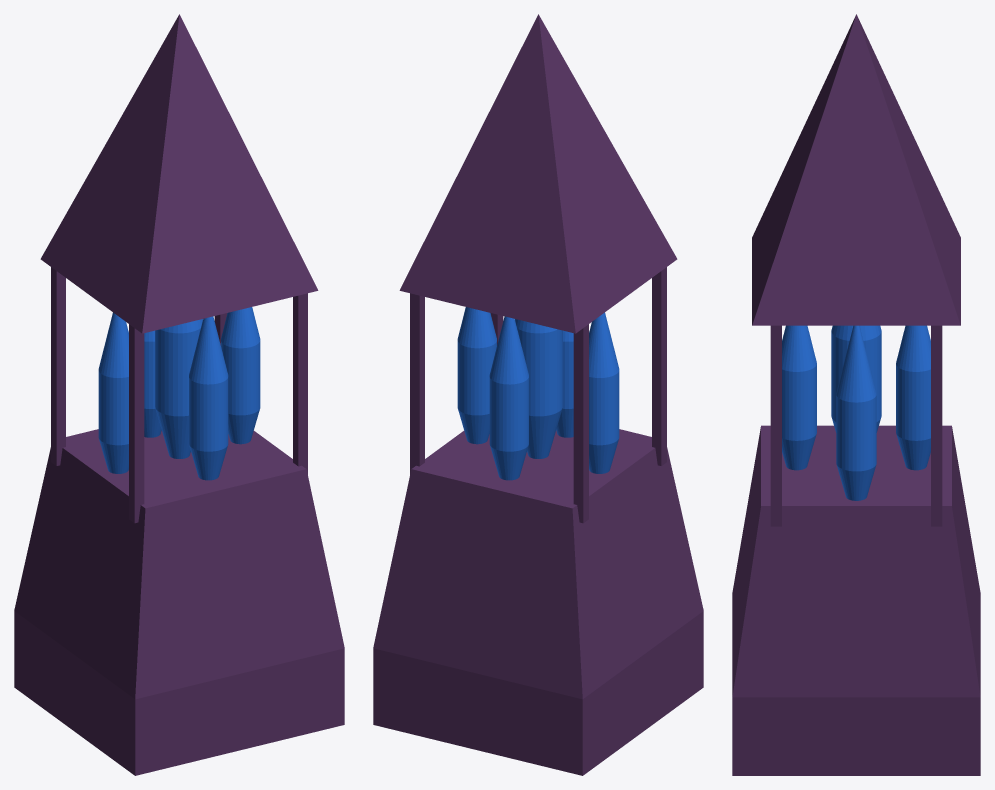
File: DoubleTowerMage.fbx
The picture shows the model from 3 angles, left to right: view 1: azimuth 30°, elevation 25°; view 2: azimuth 150°, elevation 25°; view 3: azimuth 270°, elevation 25°; orthographic projection. The views are drawn at different scales.
Visible parts, largest first — view 1: Tower, Roof, Crystal.001, Colones, Crystal, Crystal.002; view 2: Tower, Roof, Crystal.001, Colones, Crystal, Crystal.002; view 3: Tower, Roof, Crystal, Crystal.001, Colones, Crystal.002.
Part boxes in pixels (<box>): Tower: <box>14,429,344,775</box>; Roof: <box>40,14,318,333</box>; Crystal.001: <box>98,307,260,473</box>; Colones: <box>51,267,307,523</box>; Crystal: <box>144,316,228,480</box>; Crystal.002: <box>155,319,202,458</box>; Tower: <box>373,429,703,775</box>; Roof: <box>399,14,677,333</box>; Crystal.001: <box>457,307,619,473</box>; Colones: <box>410,267,666,523</box>; Crystal: <box>489,316,573,480</box>; Crystal.002: <box>515,319,562,458</box>; Tower: <box>732,425,980,775</box>; Roof: <box>752,14,960,325</box>; Crystal: <box>782,325,930,470</box>; Crystal.001: <box>836,325,876,500</box>; Colones: <box>770,325,942,526</box>; Crystal.002: <box>831,325,881,432</box>.
Bounding box in the file's own units: 280 × 884 × 280.
